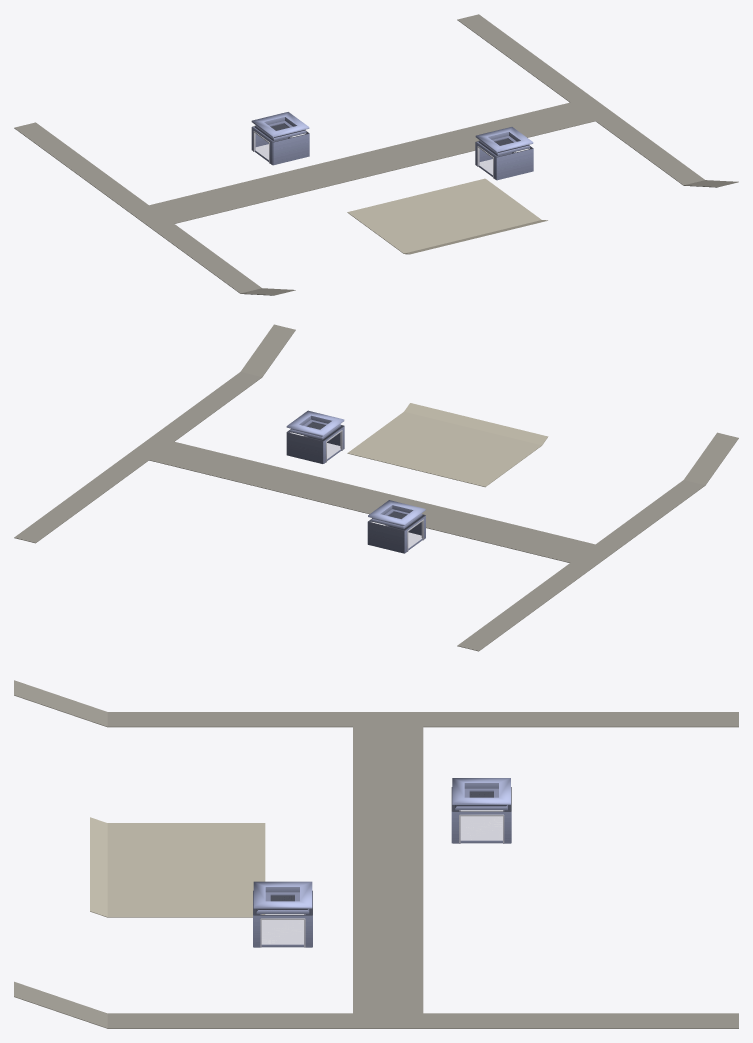
File: town-1-0.glb
3 views of the same model, one above another, from view 1: azimuth 30°, elevation 25°; view 2: azimuth 150°, elevation 25°; view 3: azimuth 270°, elevation 25° (orthographic). The views are drawn at different scales.
Visible parts, largest first — view 1: town-1-0; view 2: town-1-0; view 3: town-1-0.
Part boxes in pixels (x1=…): town-1-0: x1=14, y1=14, x2=738, y2=295; town-1-0: x1=14, y1=324, x2=738, y2=651; town-1-0: x1=14, y1=680, x2=738, y2=1028.
Bounding box in the file's own units: 128 × 7.7 × 124.
20 materials, 16 textured.
